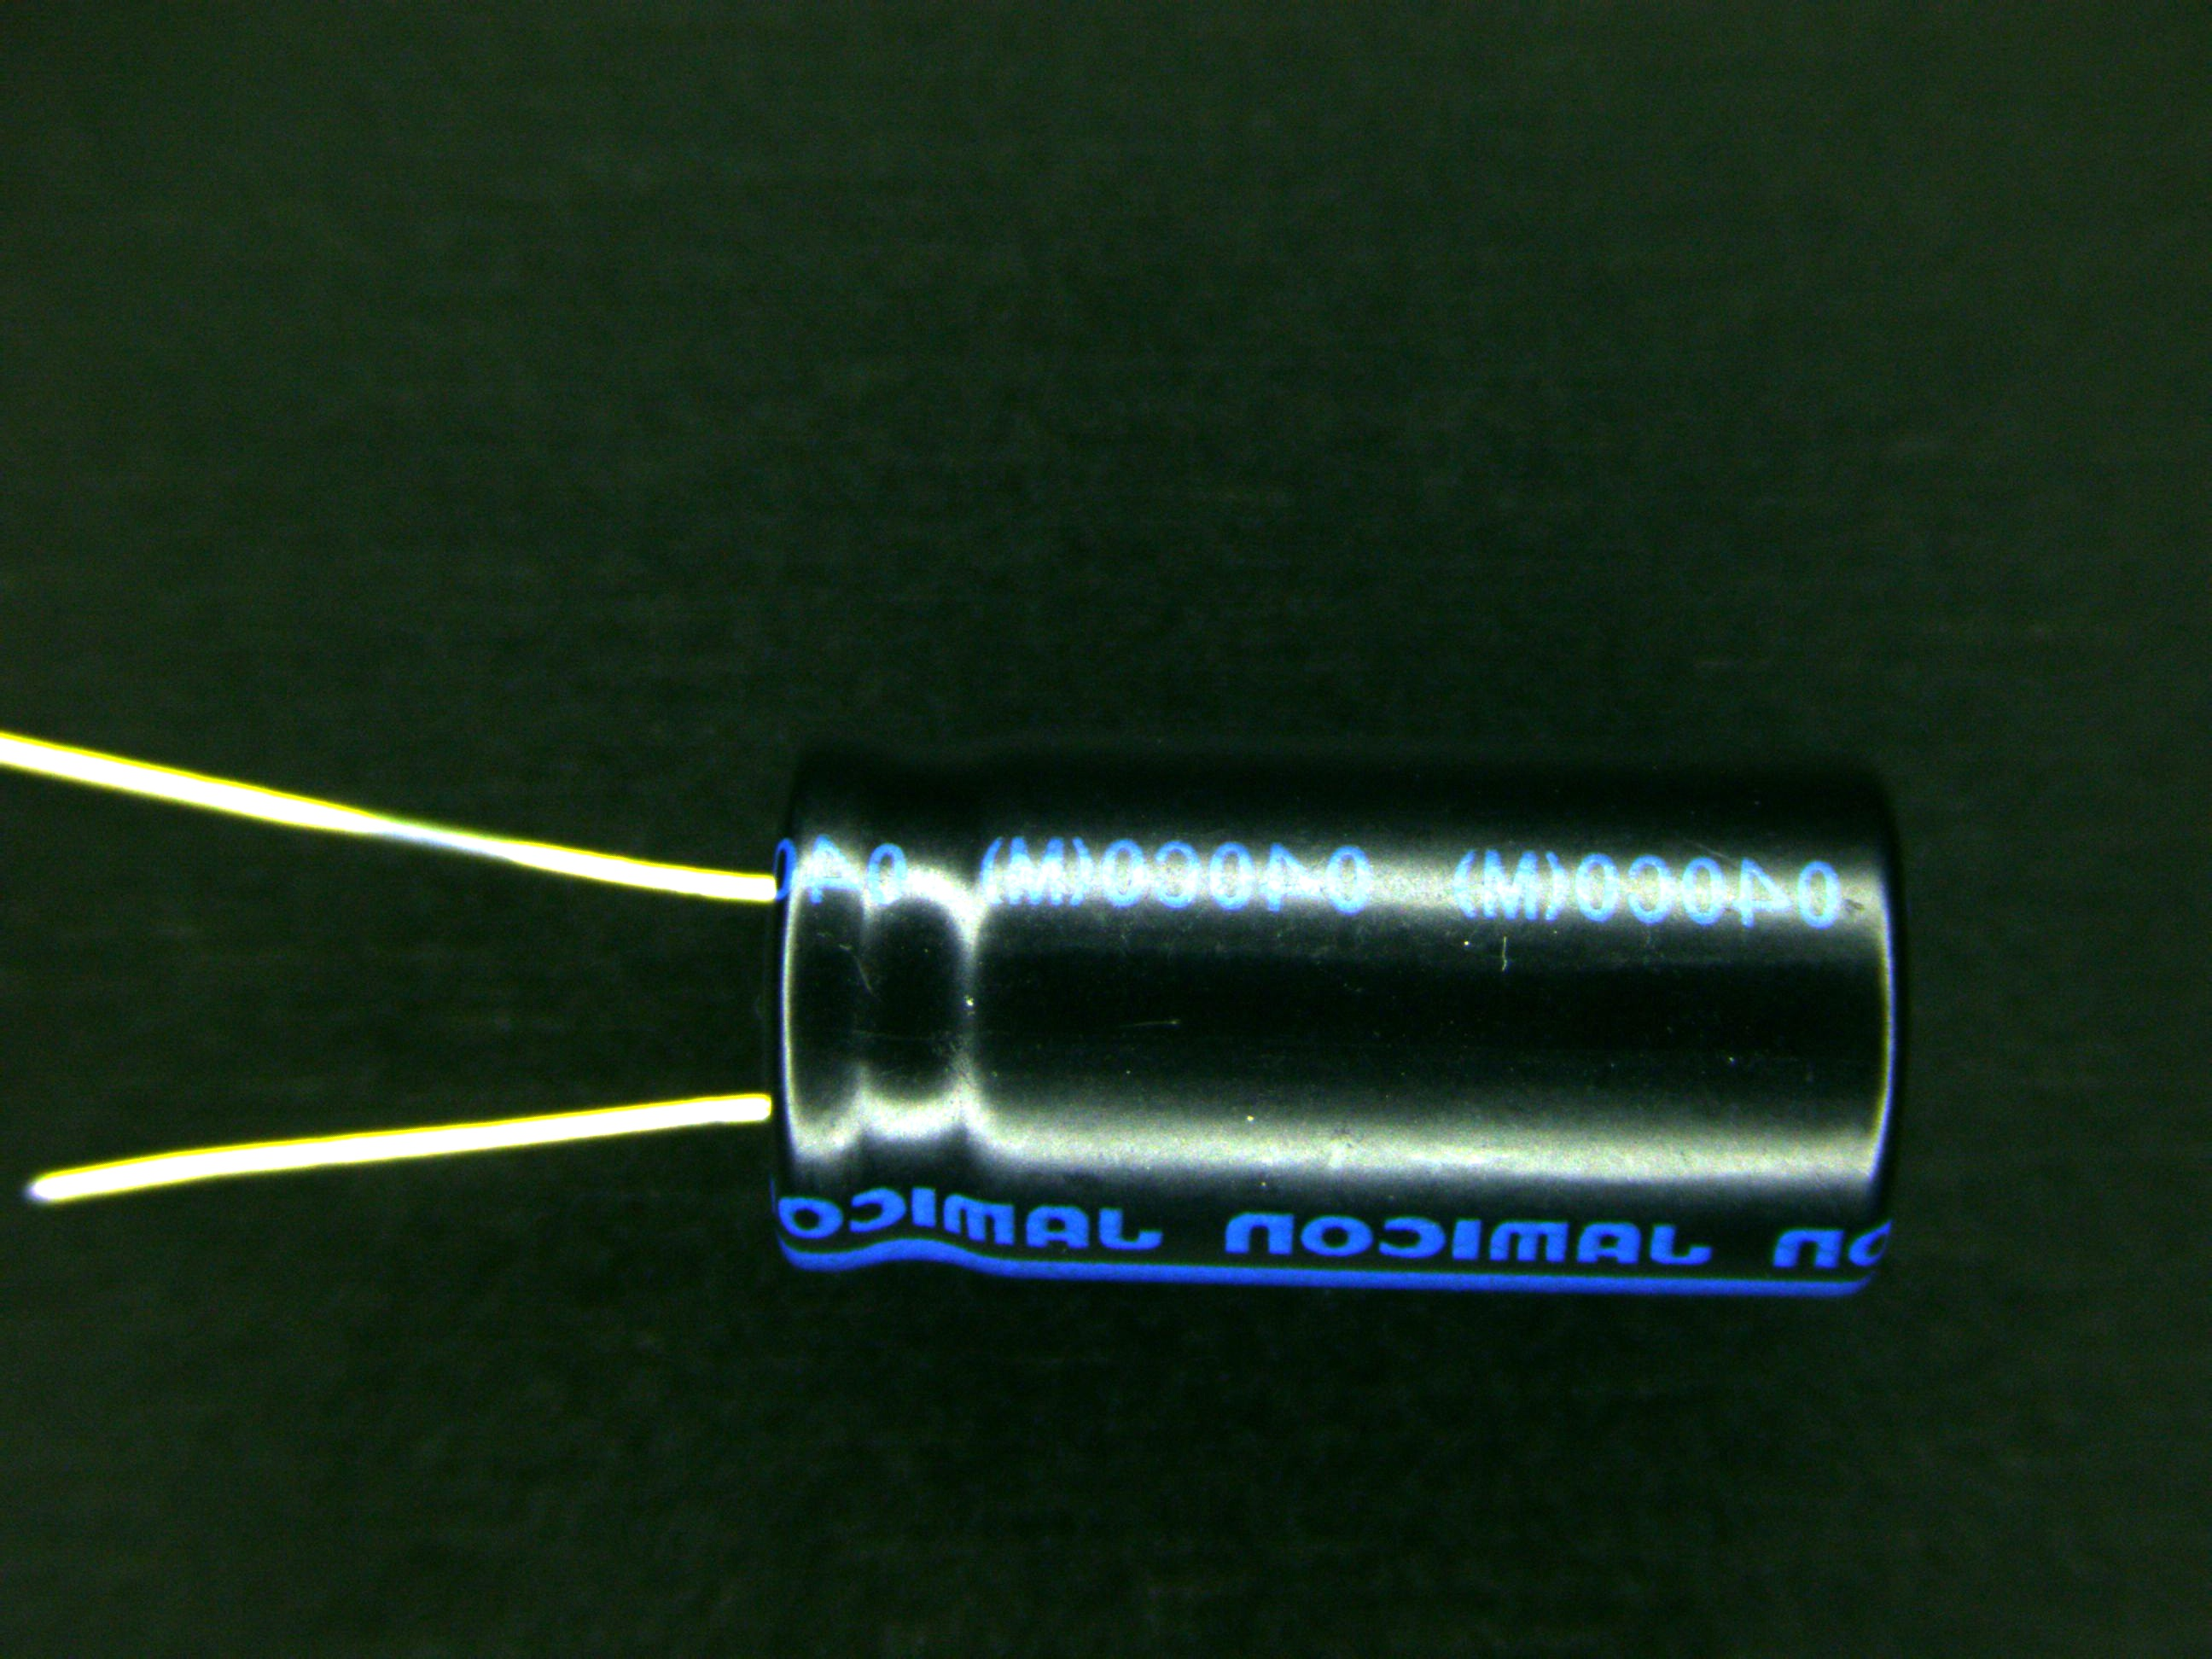c2: (618, 774, 1912, 1300)
